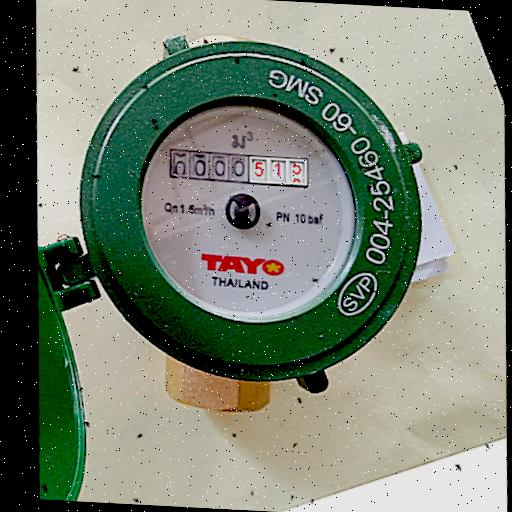0: (190, 154, 207, 178), (210, 155, 227, 179), (171, 152, 187, 177), (230, 157, 245, 181)
1: (269, 161, 285, 182)
5: (250, 160, 267, 181), (288, 161, 303, 184)
border_water_meter_number: (167, 149, 310, 189)
